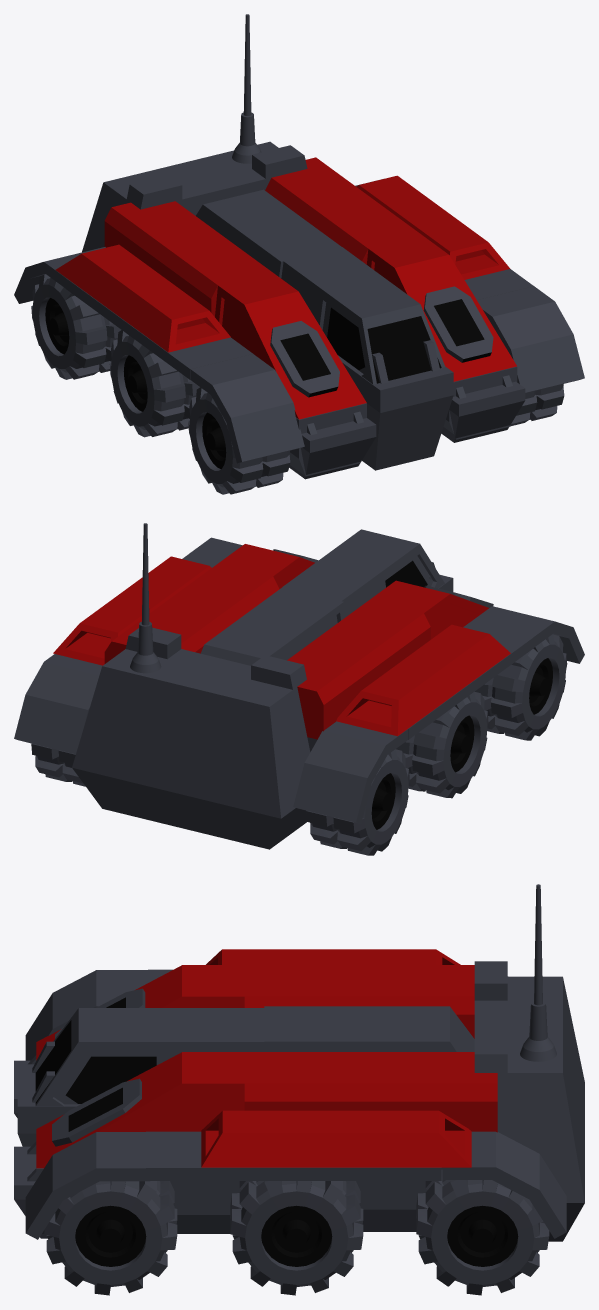
The model's file is Heavy_Car (1).fbx.
3 renders of one model, top to bottom at view 1: azimuth 30°, elevation 25°; view 2: azimuth 150°, elevation 25°; view 3: azimuth 270°, elevation 25°, orthographic. The views are drawn at different scales.
Parts seen in each view (by area): view 1: mergedBlocks; view 2: mergedBlocks; view 3: mergedBlocks.
Boxes of the visible parts, <box> form: mergedBlocks: <box>14,14,584,494</box>; mergedBlocks: <box>14,523,584,855</box>; mergedBlocks: <box>14,884,584,1295</box>.
Bounding box in the file's own units: 25.25 × 20.58 × 30.7.
